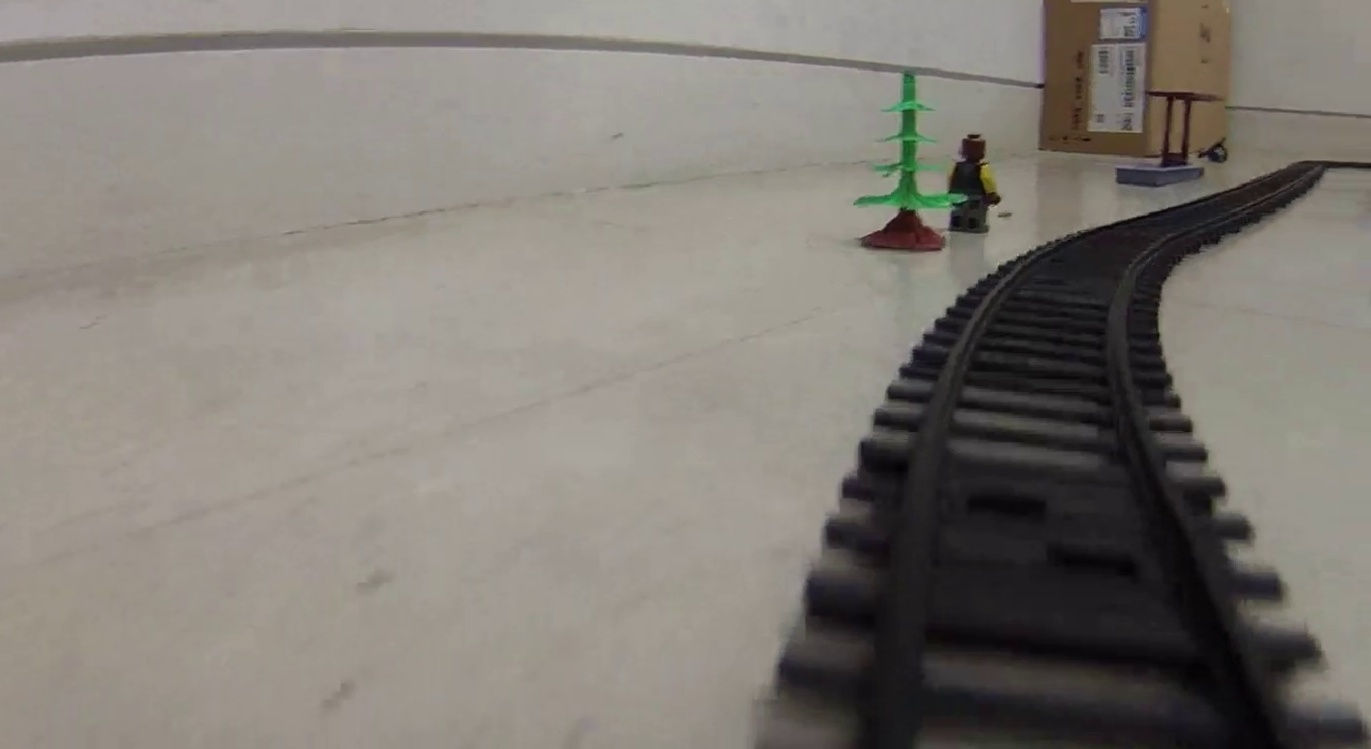people: (950, 133, 1000, 233)
tree: (852, 68, 949, 251)
